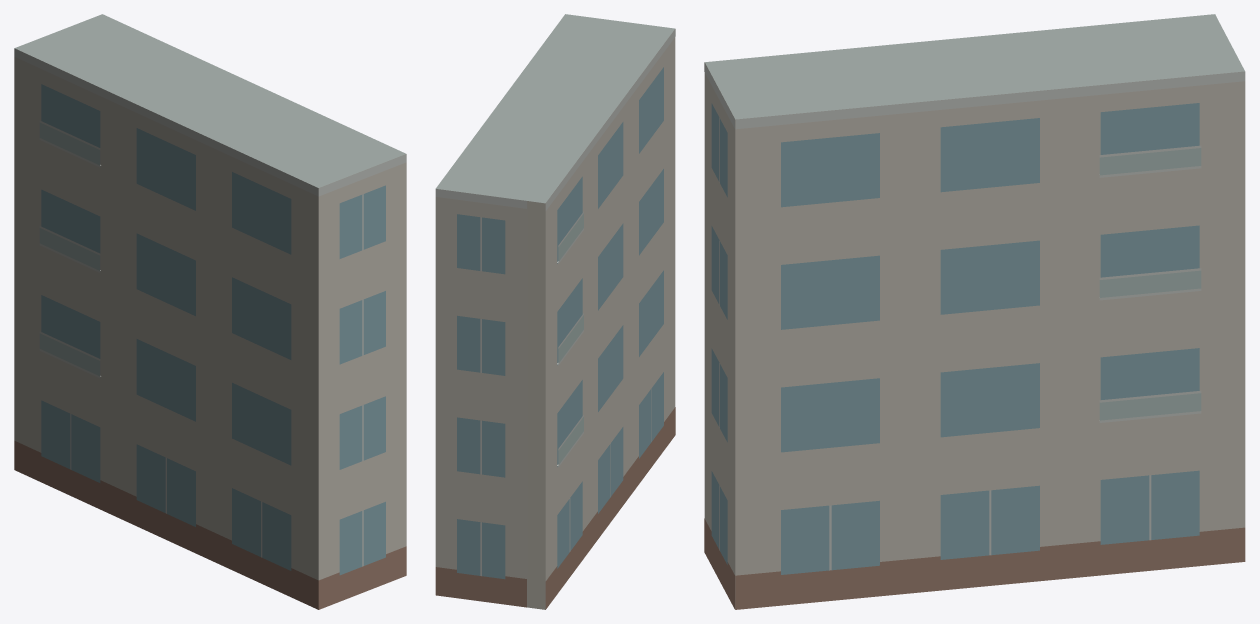
Rendered from residential-c3dfde37-8824-471d-a83d-5b7818895da9.glb.
3 views of the same model, side by side, from view 1: azimuth 30°, elevation 25°; view 2: azimuth 150°, elevation 25°; view 3: azimuth 270°, elevation 25° (orthographic). The views are drawn at different scales.
Visible parts, largest first — view 1: residential-c3dfde37-8824-471d-a83d-5b7818895da9.tmp; view 2: residential-c3dfde37-8824-471d-a83d-5b7818895da9.tmp; view 3: residential-c3dfde37-8824-471d-a83d-5b7818895da9.tmp.
Part boxes in pixels (left/top/right/bottom): residential-c3dfde37-8824-471d-a83d-5b7818895da9.tmp: left=14, top=14, right=406, bottom=609; residential-c3dfde37-8824-471d-a83d-5b7818895da9.tmp: left=435, top=14, right=675, bottom=609; residential-c3dfde37-8824-471d-a83d-5b7818895da9.tmp: left=704, top=14, right=1245, bottom=609.
Bounding box in the file's own units: 5.64 × 12.2 × 12.2.
